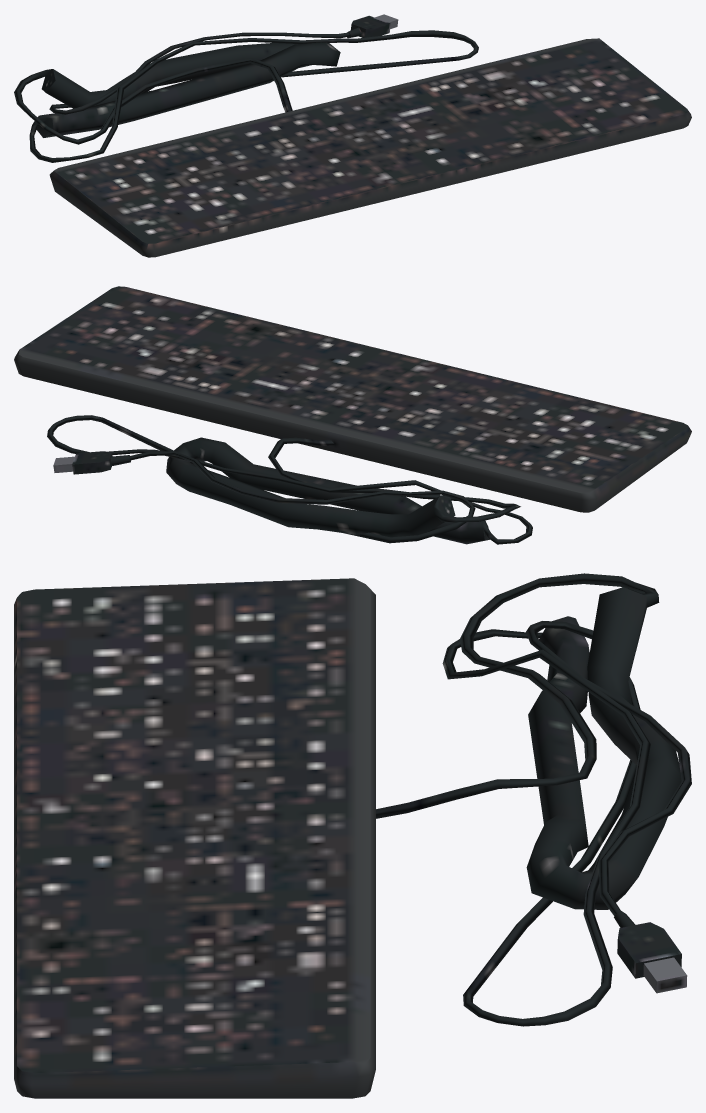
Rendered from 021_keyboard01a.fbx.
3 views of the same model, one above another, from view 1: azimuth 30°, elevation 25°; view 2: azimuth 150°, elevation 25°; view 3: azimuth 270°, elevation 25° (orthographic). The views are drawn at different scales.
Parts seen in each view (by area): view 1: LOD_1_Group_0_Sub_1__sm31_021_KeyBoard01A_A_Mat; view 2: LOD_1_Group_0_Sub_1__sm31_021_KeyBoard01A_A_Mat; view 3: LOD_1_Group_0_Sub_1__sm31_021_KeyBoard01A_A_Mat.
Part boxes in pixels (bbox=[...]): LOD_1_Group_0_Sub_1__sm31_021_KeyBoard01A_A_Mat: bbox=[14, 14, 691, 257]; LOD_1_Group_0_Sub_1__sm31_021_KeyBoard01A_A_Mat: bbox=[14, 286, 691, 544]; LOD_1_Group_0_Sub_1__sm31_021_KeyBoard01A_A_Mat: bbox=[14, 573, 691, 1098].
Bounding box in the file's own units: 0.5107 × 0.0496 × 0.2993.
